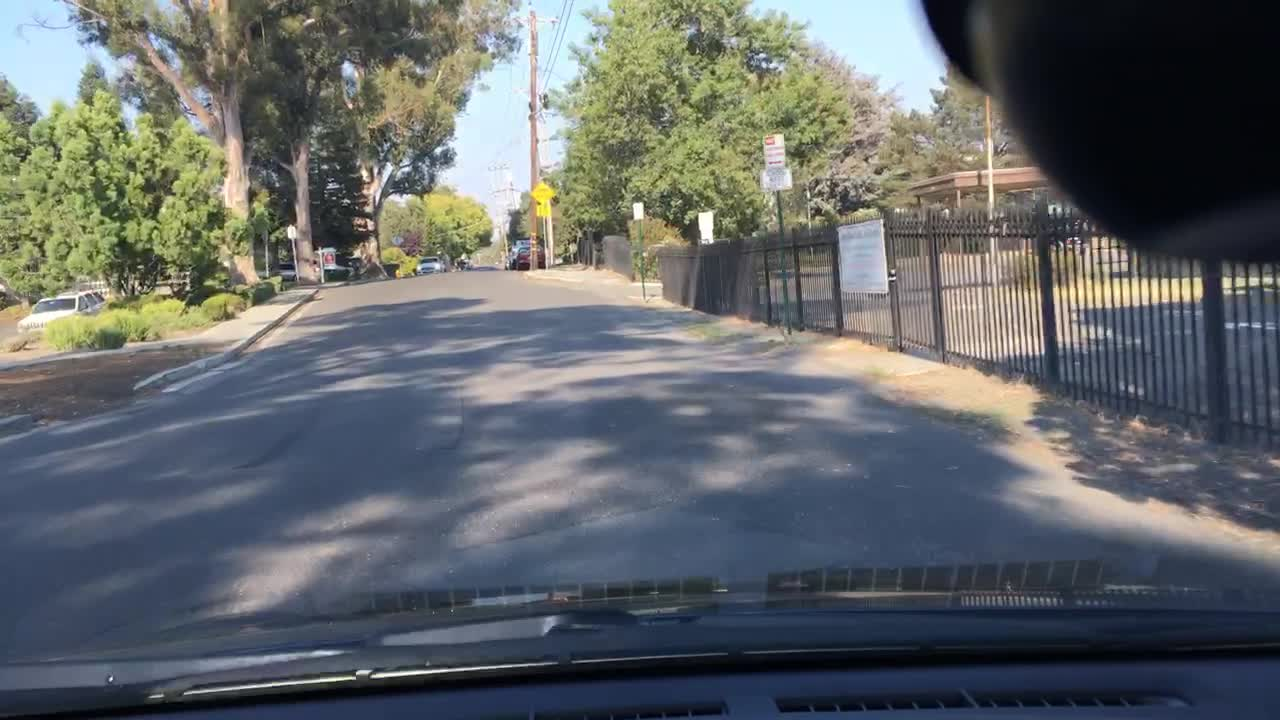car: (17, 289, 103, 331), (1045, 215, 1087, 250), (513, 244, 547, 270), (255, 260, 298, 280), (502, 238, 527, 270), (416, 254, 445, 273), (452, 252, 471, 270)
traffic sign: (762, 129, 786, 167), (758, 167, 794, 192), (695, 210, 715, 242), (527, 181, 557, 202), (319, 247, 337, 268), (631, 201, 644, 222), (536, 204, 550, 217), (390, 234, 403, 246), (287, 225, 295, 238)
